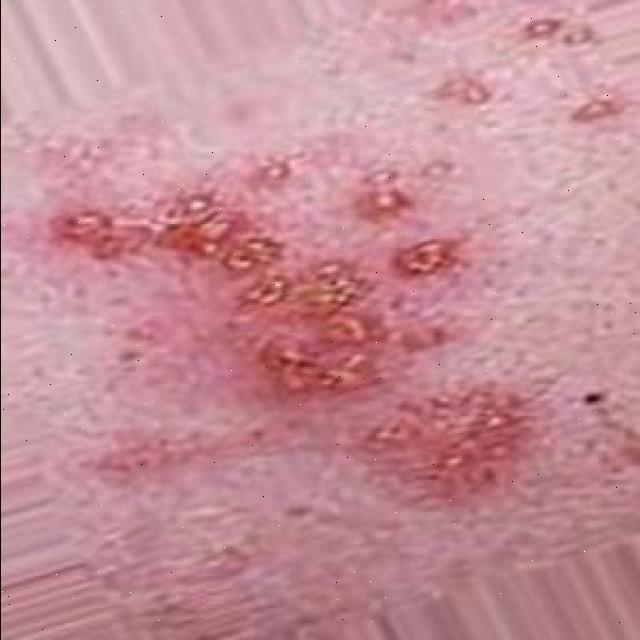Shingles: (32, 165, 514, 475)
